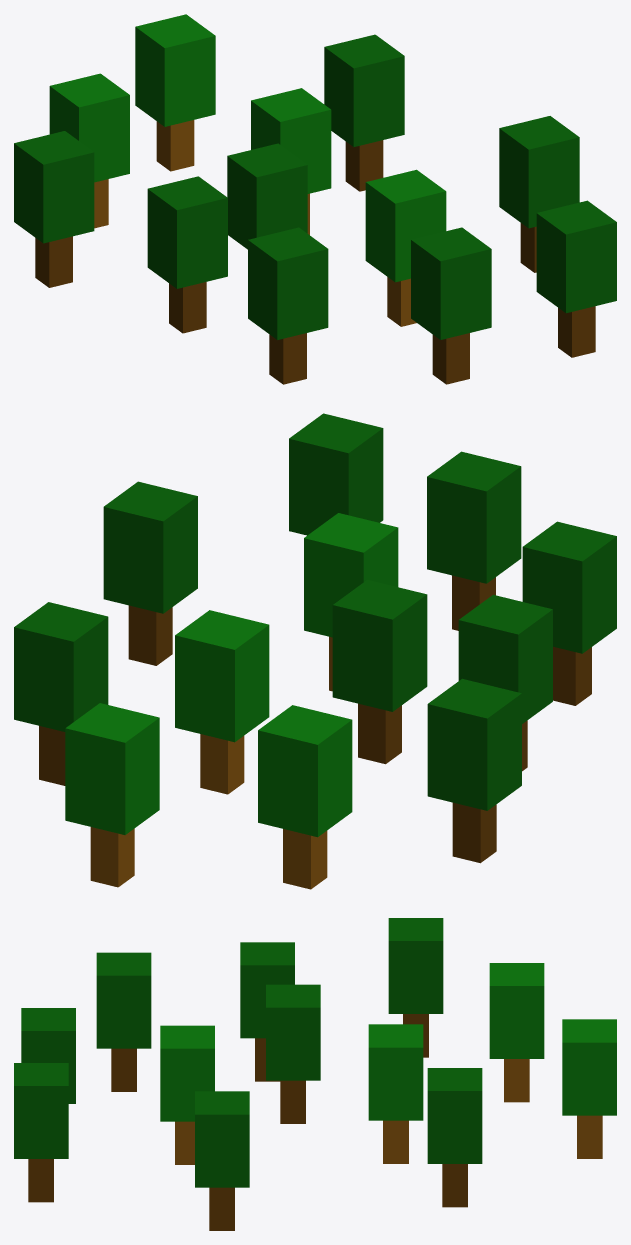
The model's file is green_forest.fbx.
3 renders of one model, top to bottom at view 1: azimuth 30°, elevation 25°; view 2: azimuth 150°, elevation 25°; view 3: azimuth 270°, elevation 25°, orthographic. The views are drawn at different scales.
Visible parts, largest first — view 1: Small green forest; view 2: Small green forest; view 3: Small green forest.
Part boxes in pixels (x1,y1,x2,y2): Small green forest: (14, 14, 616, 384); Small green forest: (14, 413, 616, 889); Small green forest: (14, 918, 616, 1230).
Bounding box in the file's own units: 50800 × 15389 × 66300.
4 materials, 4 textured.
